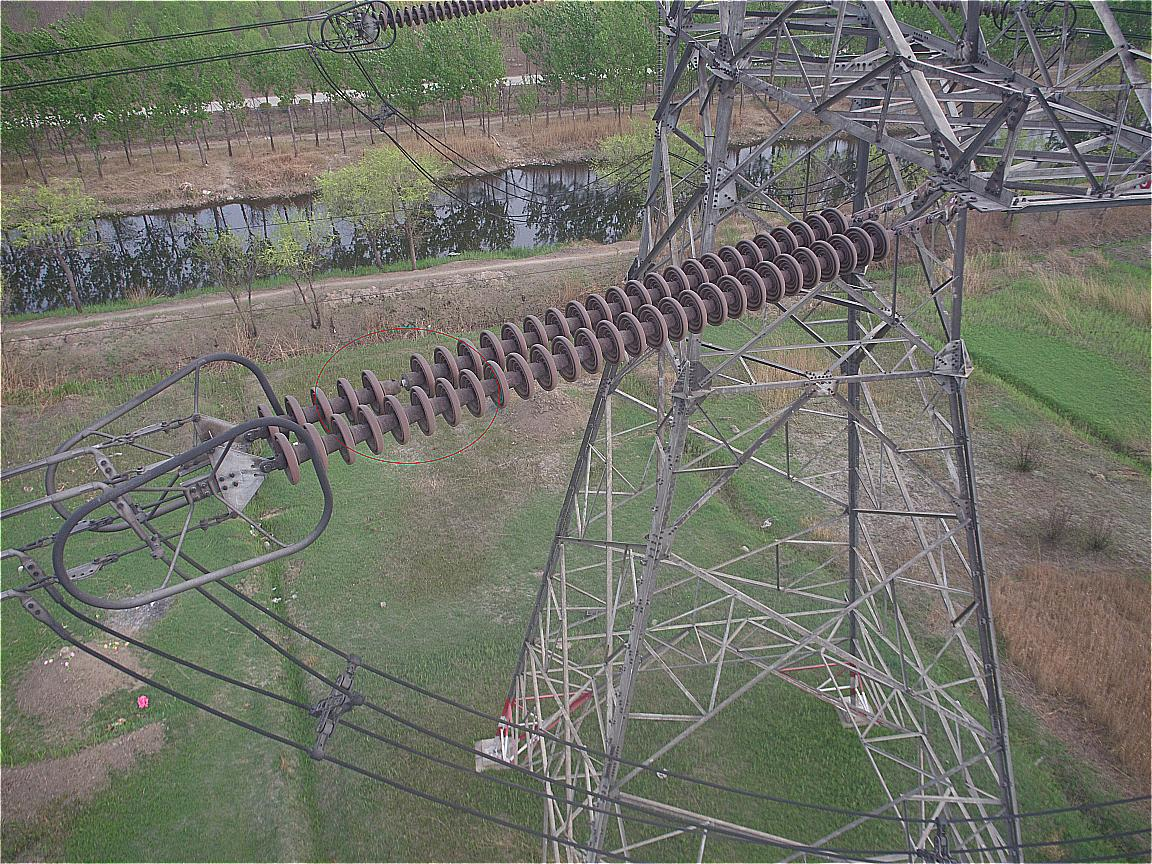insultor1: (258, 207, 889, 482)
